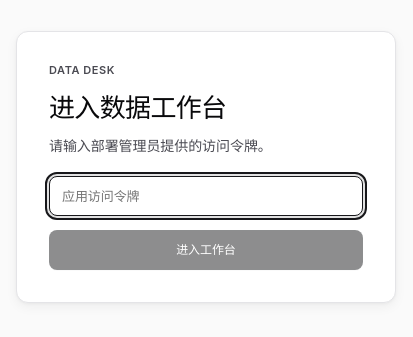
Test: AccessGate 访问门禁 › 请求异常时展示异常消息并删除本地令牌
Type "token" into the password field with placeholder "应用访问令牌" at point(206, 196), box [49, 176, 363, 216]
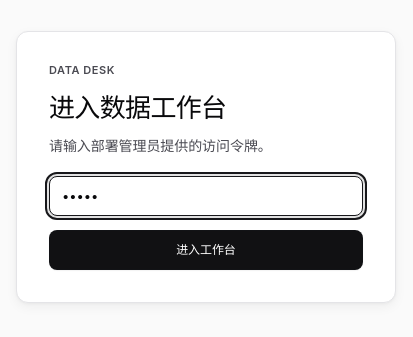
Submit the form "进入工作台"
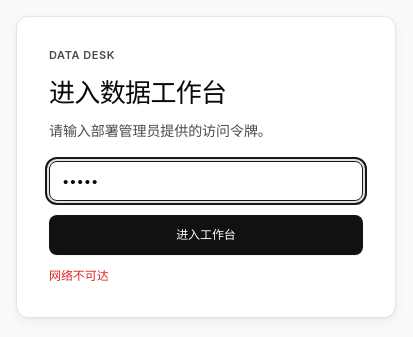
Now the text "网络不可达" is shown, box [49, 268, 109, 283]
